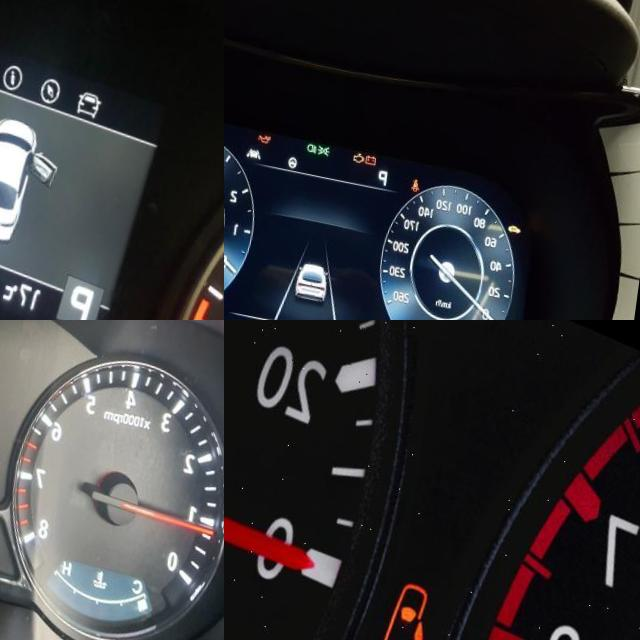LaneCenteringOff: (254, 137, 270, 149)
Low beam: (314, 130, 325, 141)
SideLamp: (325, 131, 339, 143)
